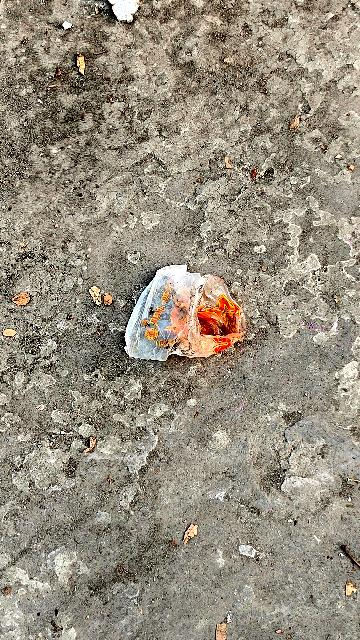polythene: (123, 262, 249, 370)
